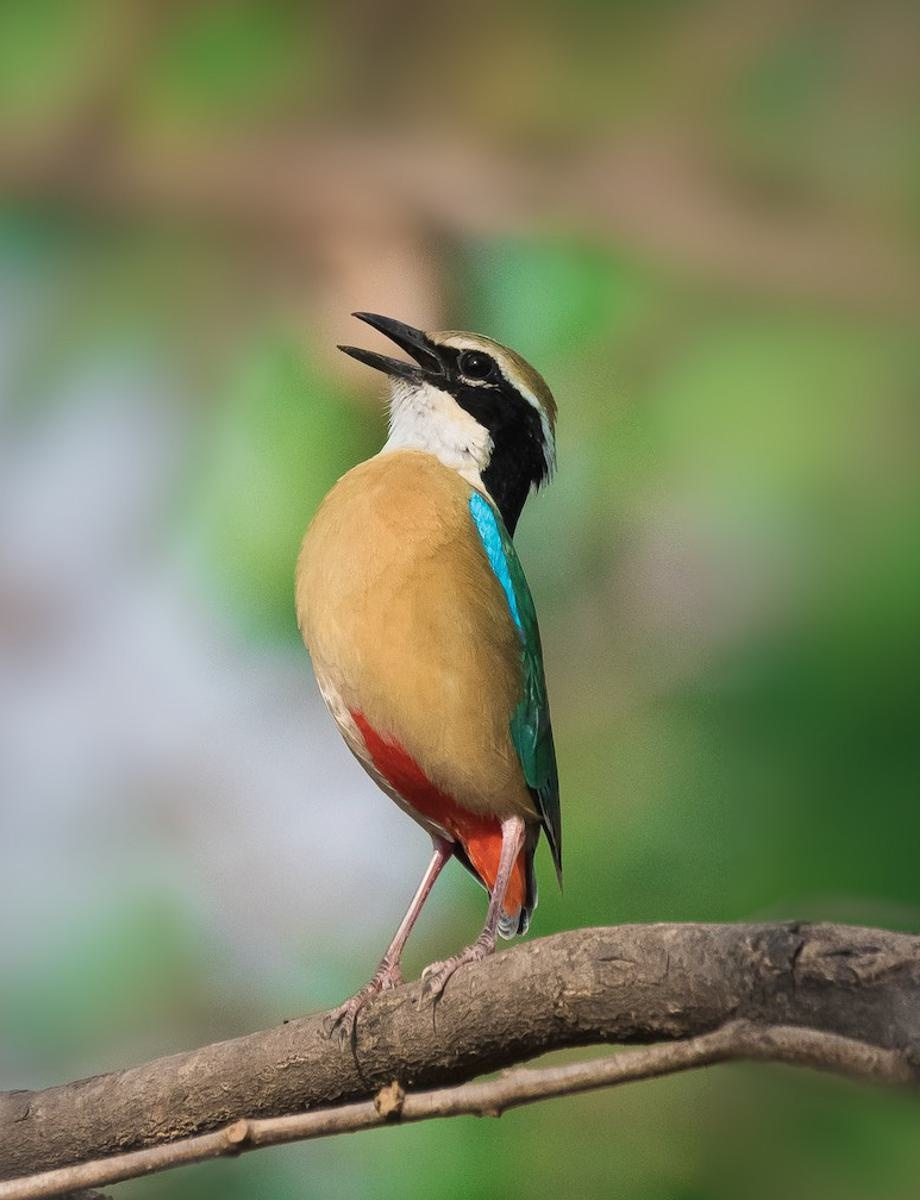pitta: (267, 246, 656, 949)
